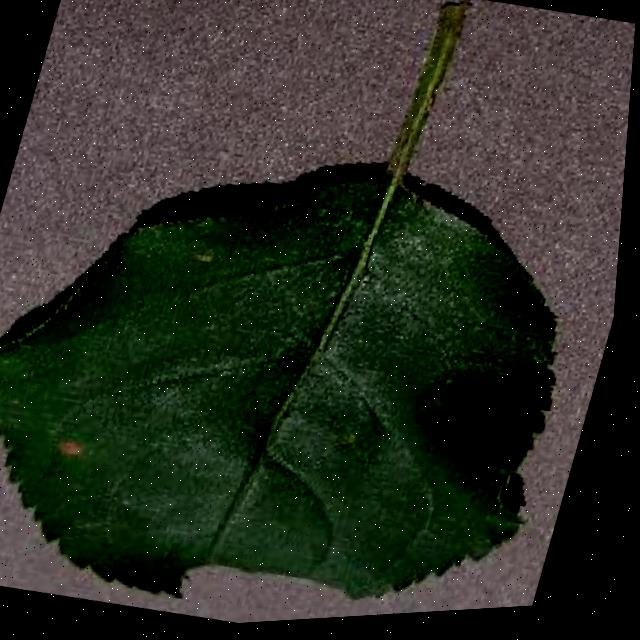black_rot: (40, 425, 93, 471)
